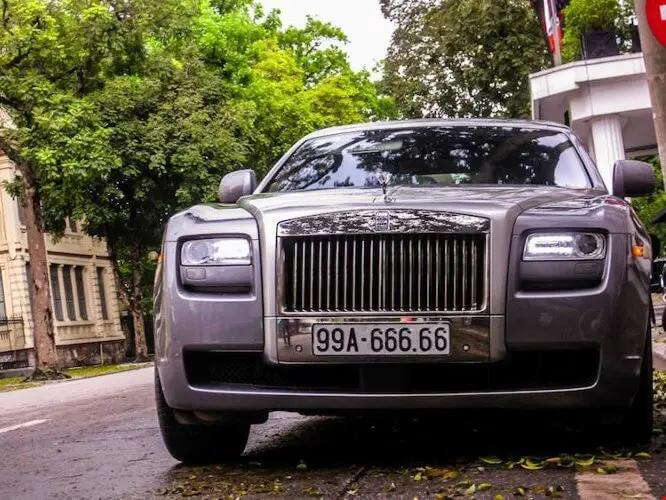numplate: (311, 319, 452, 355)
